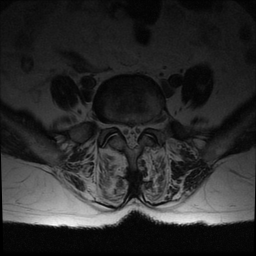CCS_normal: (128, 116, 135, 155)
LFS_normal: (142, 113, 151, 136)
LLS_normal: (135, 116, 142, 147)
RFS_stenosis: (112, 113, 120, 136)
RLS_normal: (120, 114, 128, 148)
